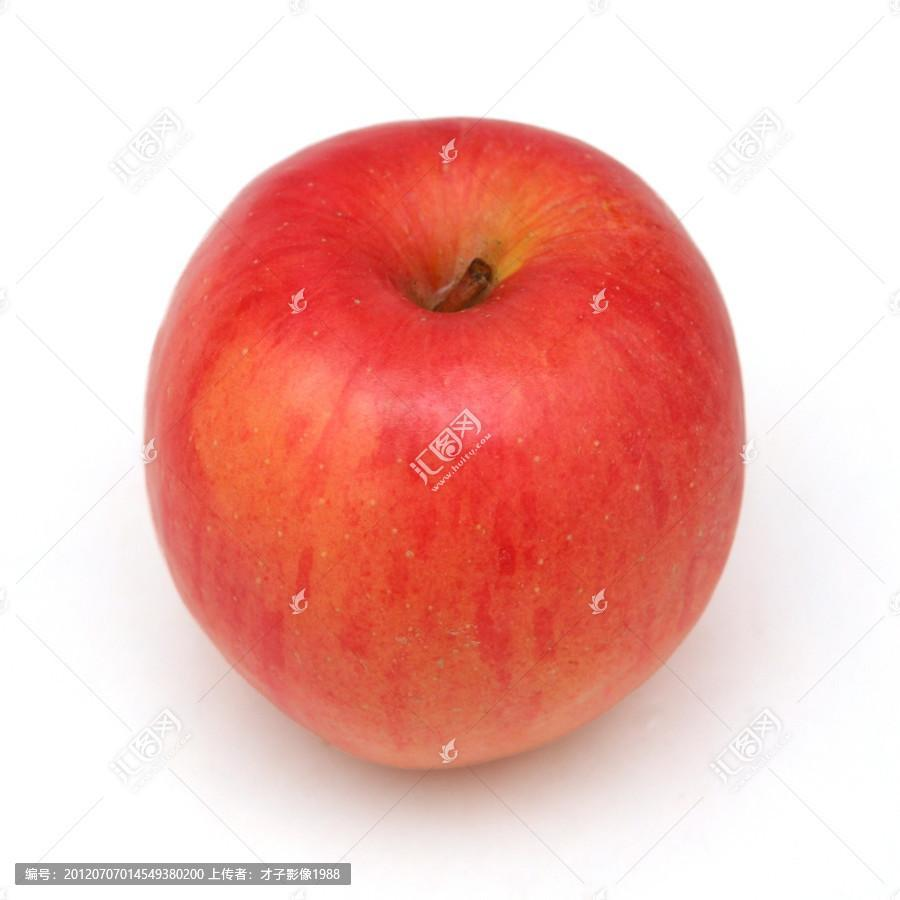apple: (139, 116, 747, 767)
